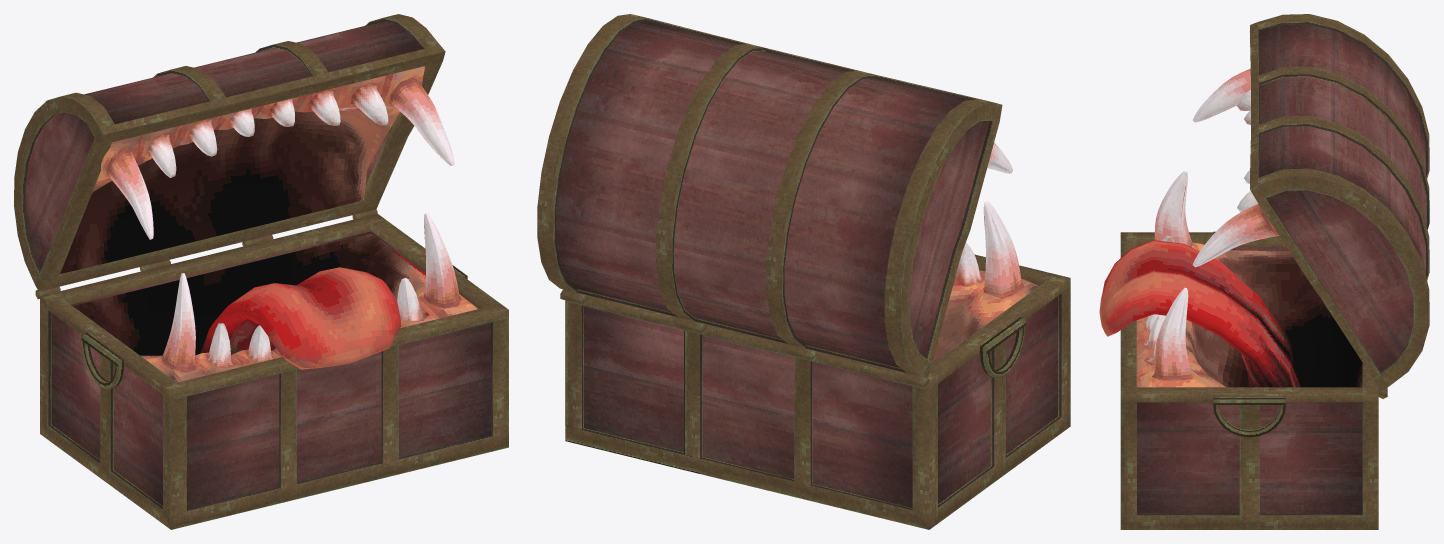
Rendered from chest_mimic.glb.
3 views of the same model, side by side, from view 1: azimuth 30°, elevation 25°; view 2: azimuth 150°, elevation 25°; view 3: azimuth 270°, elevation 25° (orthographic). The views are drawn at different scales.
Visible parts, largest first — view 1: Top, bottom, teeth, tounge, handles; view 2: Top, bottom, teeth, handles; view 3: Top, bottom, teeth, tounge, handles.
Boxes of the visible parts, left/top/right/bottom form: Top: left=14, top=14, right=454, bottom=299; bottom: left=40, top=213, right=508, bottom=529; teeth: left=73, top=213, right=477, bottom=382; tounge: left=200, top=267, right=400, bottom=369; handles: left=81, top=265, right=467, bottom=388; Top: left=537, top=14, right=1012, bottom=388; bottom: left=565, top=254, right=1070, bottom=529; teeth: left=931, top=201, right=1038, bottom=364; handles: left=980, top=317, right=1025, bottom=377; Top: left=1192, top=14, right=1429, bottom=398; bottom: left=1120, top=232, right=1378, bottom=529; teeth: left=1136, top=171, right=1362, bottom=387; tounge: left=1099, top=240, right=1304, bottom=387; handles: left=1213, top=231, right=1285, bottom=437.
Bounding box in the file's own units: 1.54 × 1.51 × 1.28.
2 materials, 2 textured.
